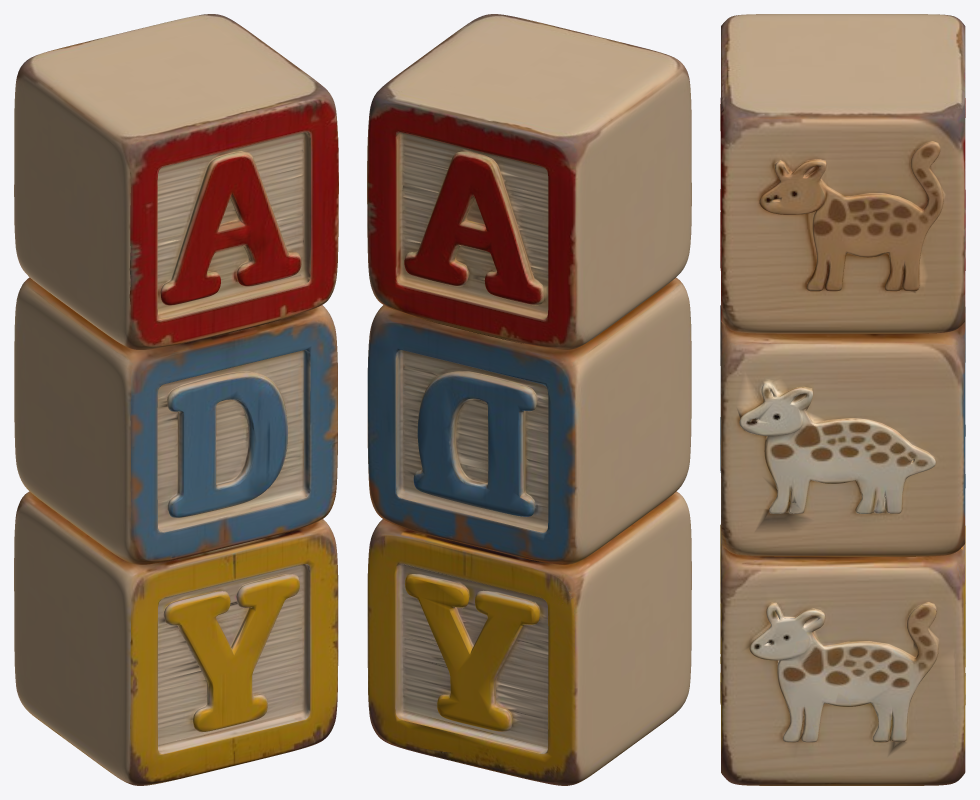
Rendered from blocks.glb.
3 renders of one model, left to right at view 1: azimuth 30°, elevation 25°; view 2: azimuth 150°, elevation 25°; view 3: azimuth 270°, elevation 25°, orthographic. The views are drawn at different scales.
Parts seen in each view (by area): view 1: node_0; view 2: node_0; view 3: node_0.
Part boxes in pixels (box(x1,y1,x2,y2)): node_0: box(14, 14, 338, 785); node_0: box(367, 14, 691, 785); node_0: box(720, 14, 965, 785).
Size of the model in its own units: 0.3886 by 1.1 by 0.3632.
1 material, 1 textured.
